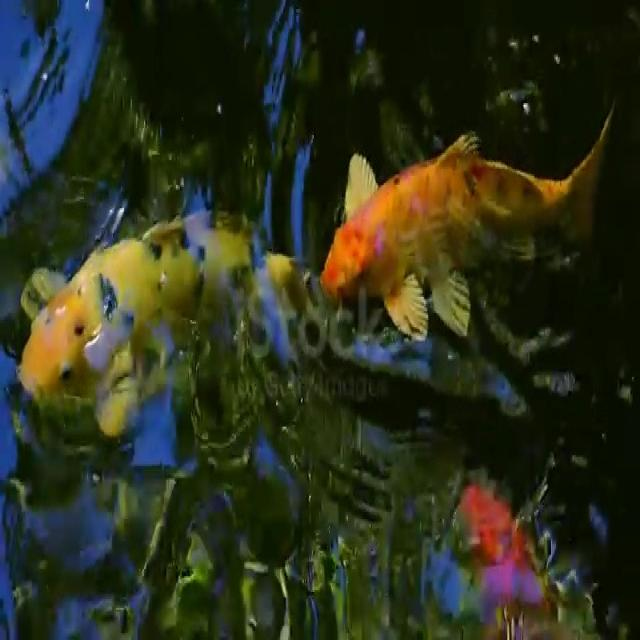fish: (310, 85, 626, 351), (7, 205, 330, 453)
